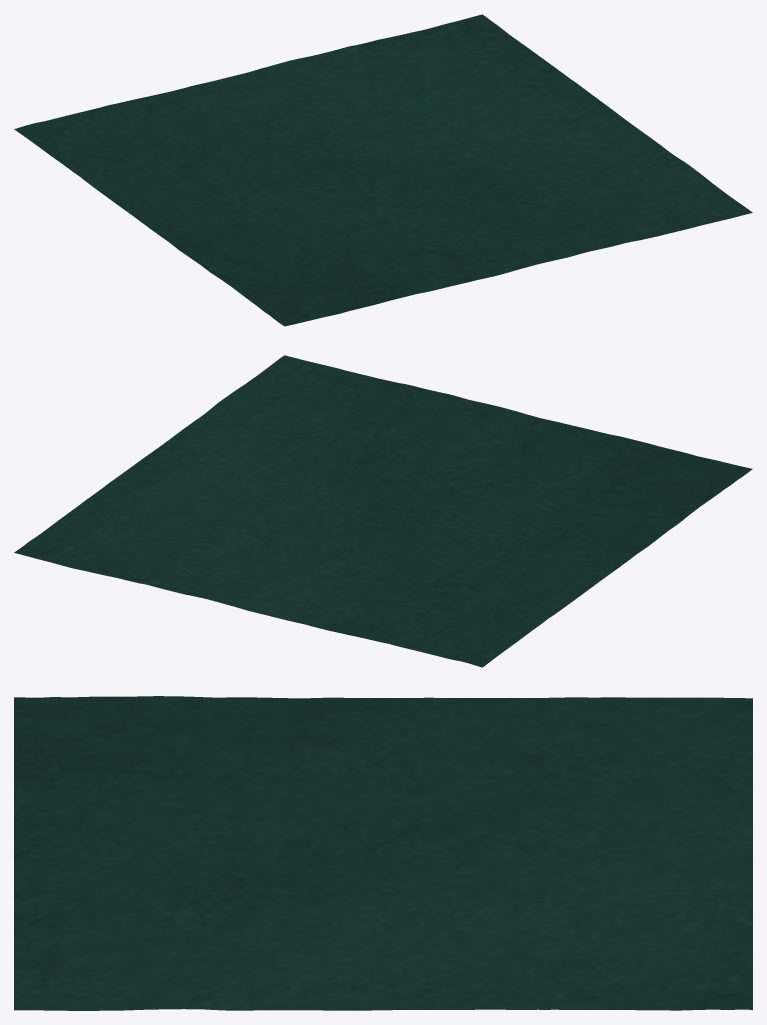
The picture shows the model from 3 angles, top to bottom: view 1: azimuth 30°, elevation 25°; view 2: azimuth 150°, elevation 25°; view 3: azimuth 270°, elevation 25°; orthographic projection. The views are drawn at different scales.
Bounding box in the file's own units: 104 × 0.5884 × 104.
2 materials, 2 textured.
